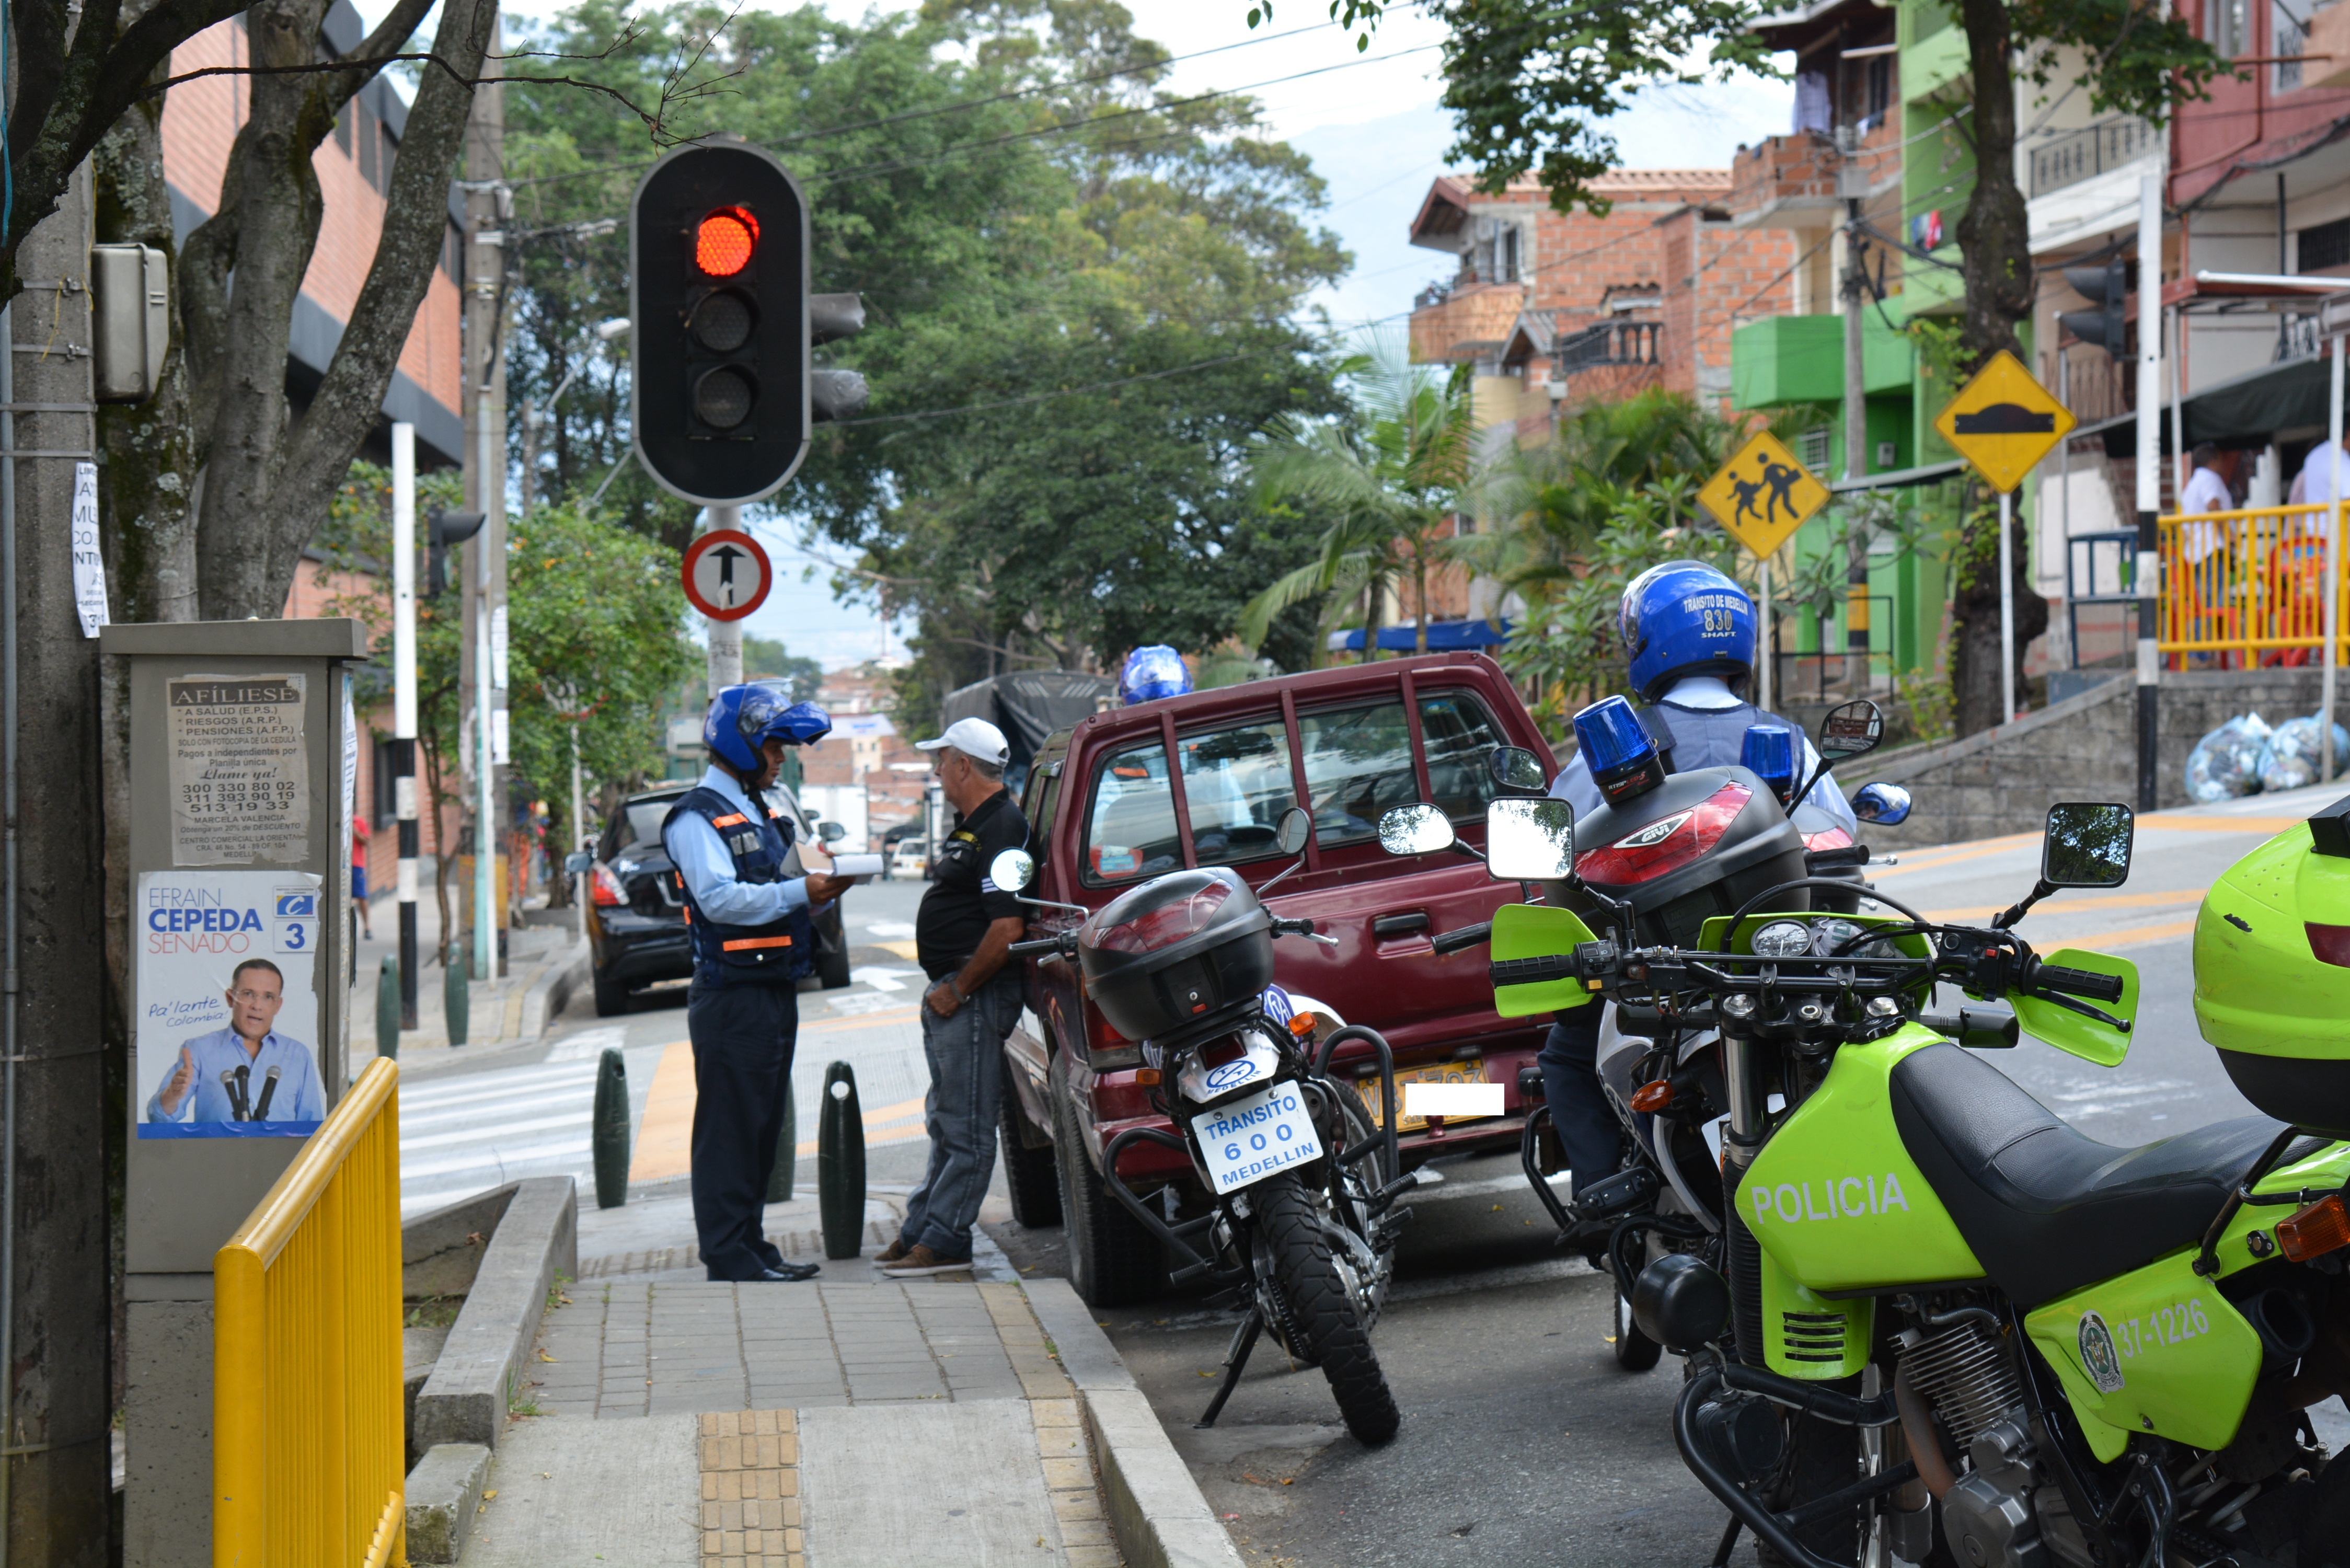red_light: (670, 196, 777, 451)
